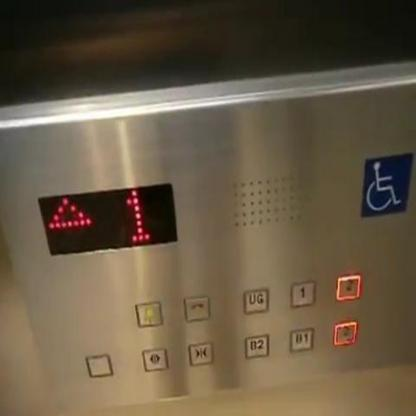1: (289, 280, 316, 308)
B1: (289, 325, 315, 353)
B2: (243, 333, 270, 360)
CH: (358, 148, 414, 218)
UG: (242, 287, 269, 314)
alarm: (134, 298, 163, 329)
blur: (335, 273, 361, 301), (84, 353, 113, 378), (333, 319, 357, 347)
call: (182, 295, 211, 322)
close: (187, 341, 215, 368)
led: (32, 178, 182, 256)
open: (140, 346, 168, 371)
